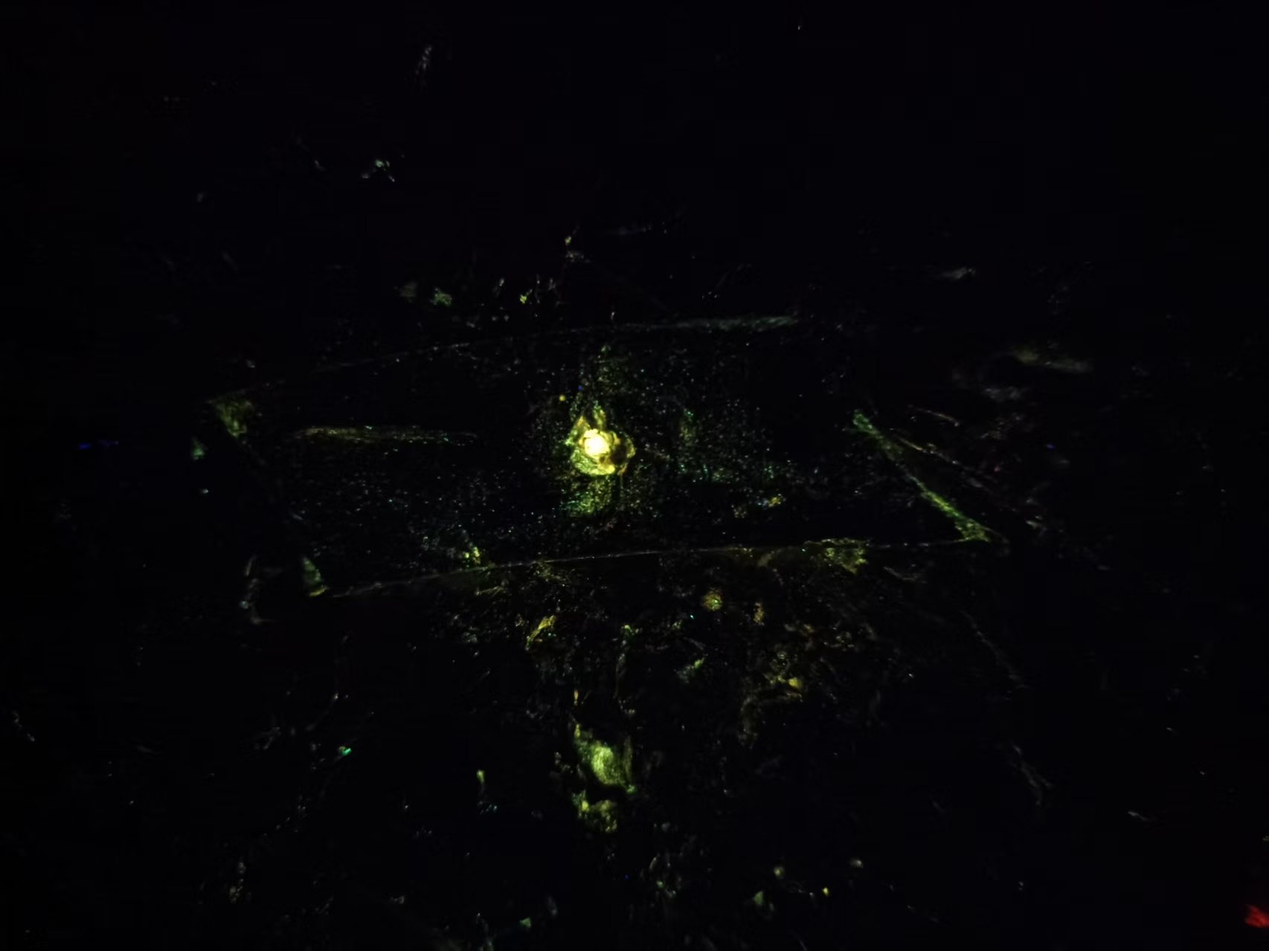Crater: (526, 384, 663, 499)
